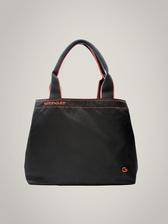bag: (22, 37, 140, 188)
